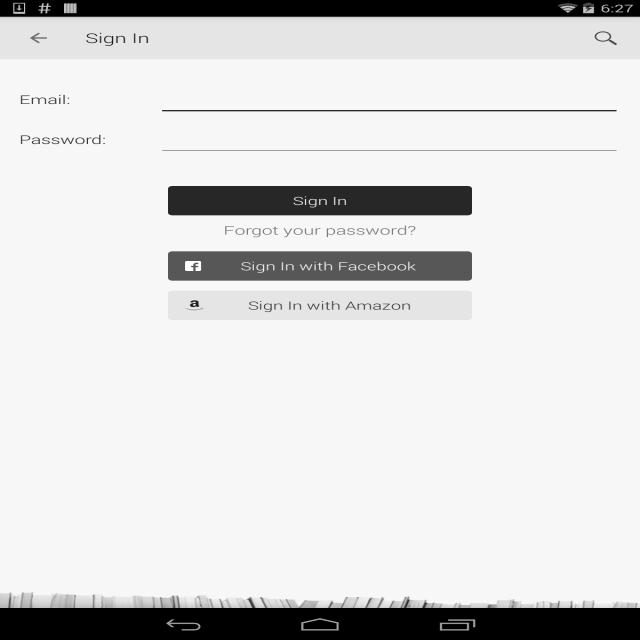Button: (168, 251, 472, 281), (168, 186, 472, 215), (168, 291, 472, 320)
EditText: (158, 83, 621, 116), (158, 123, 621, 156)
ImageButton: (9, 17, 68, 59)
TextView: (223, 216, 416, 252), (19, 83, 158, 116), (19, 123, 158, 156), (580, 22, 632, 54), (86, 29, 150, 47)
